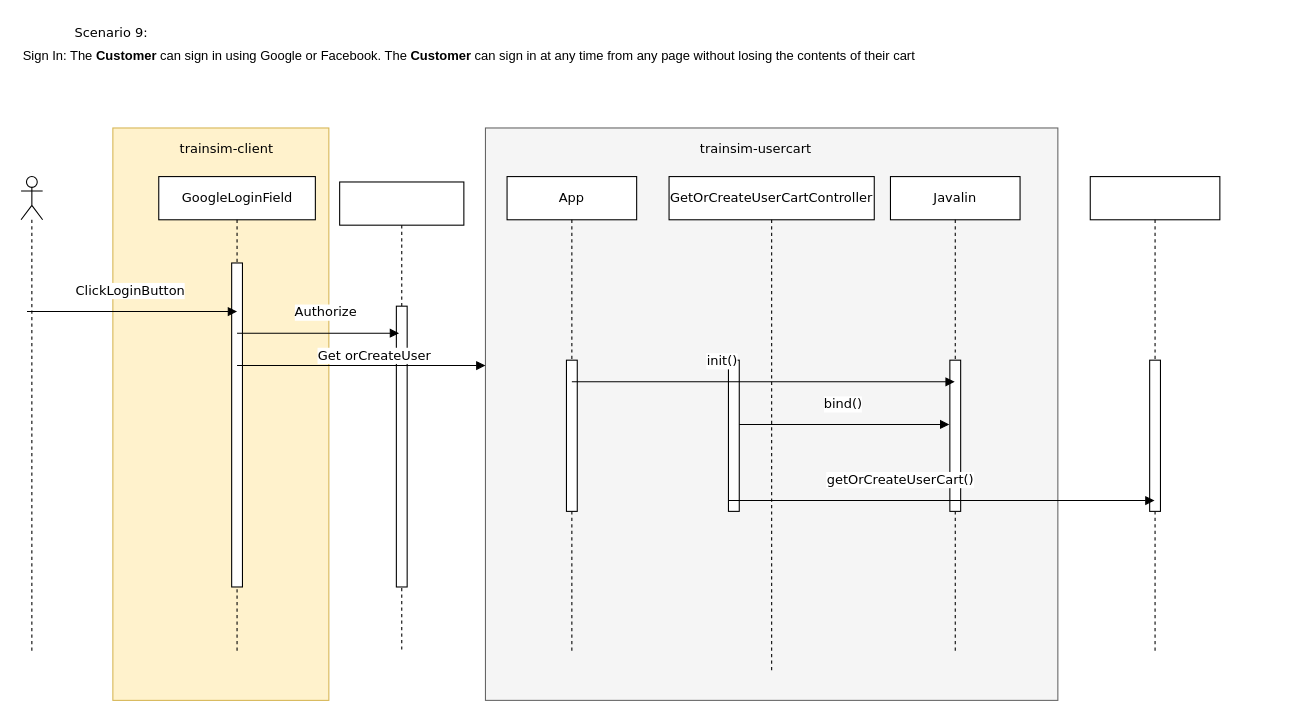
Some shapes in this 1292 by 719 pixel diagram are drawn without their labels. The shapes that lost their labels are listed below. From the top down, each one's box as (x1, y1, x2, y2) in pixels, then its label:
(339, 181, 464, 652): GoogleServer
(1089, 176, 1220, 652): database
